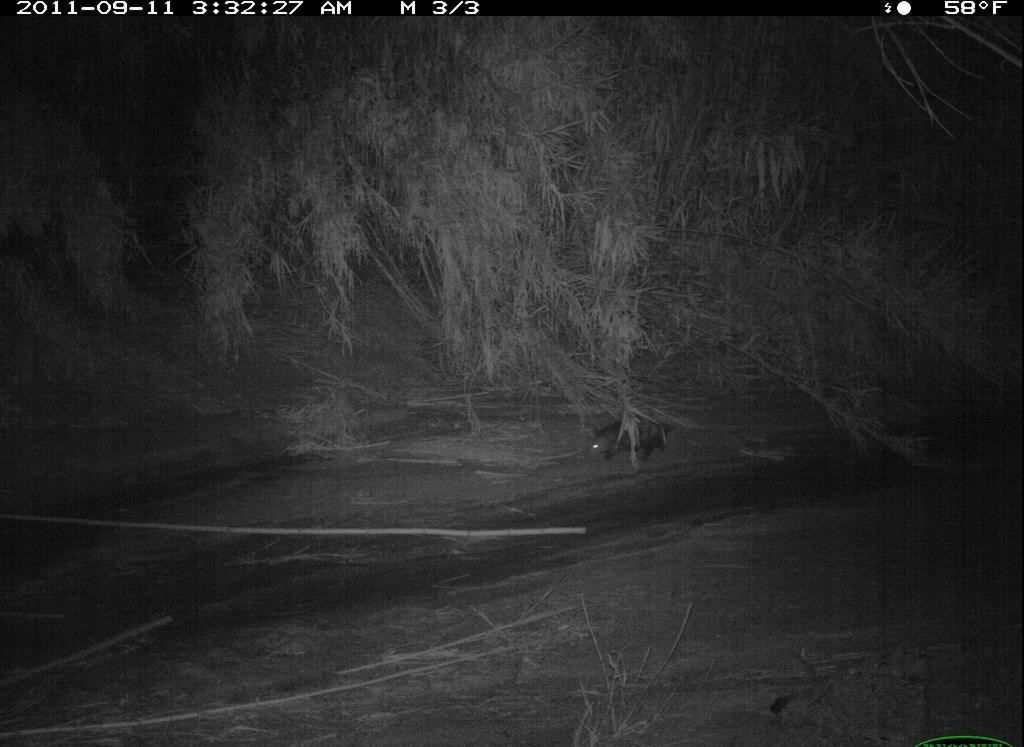opossum: (586, 409, 704, 472)
